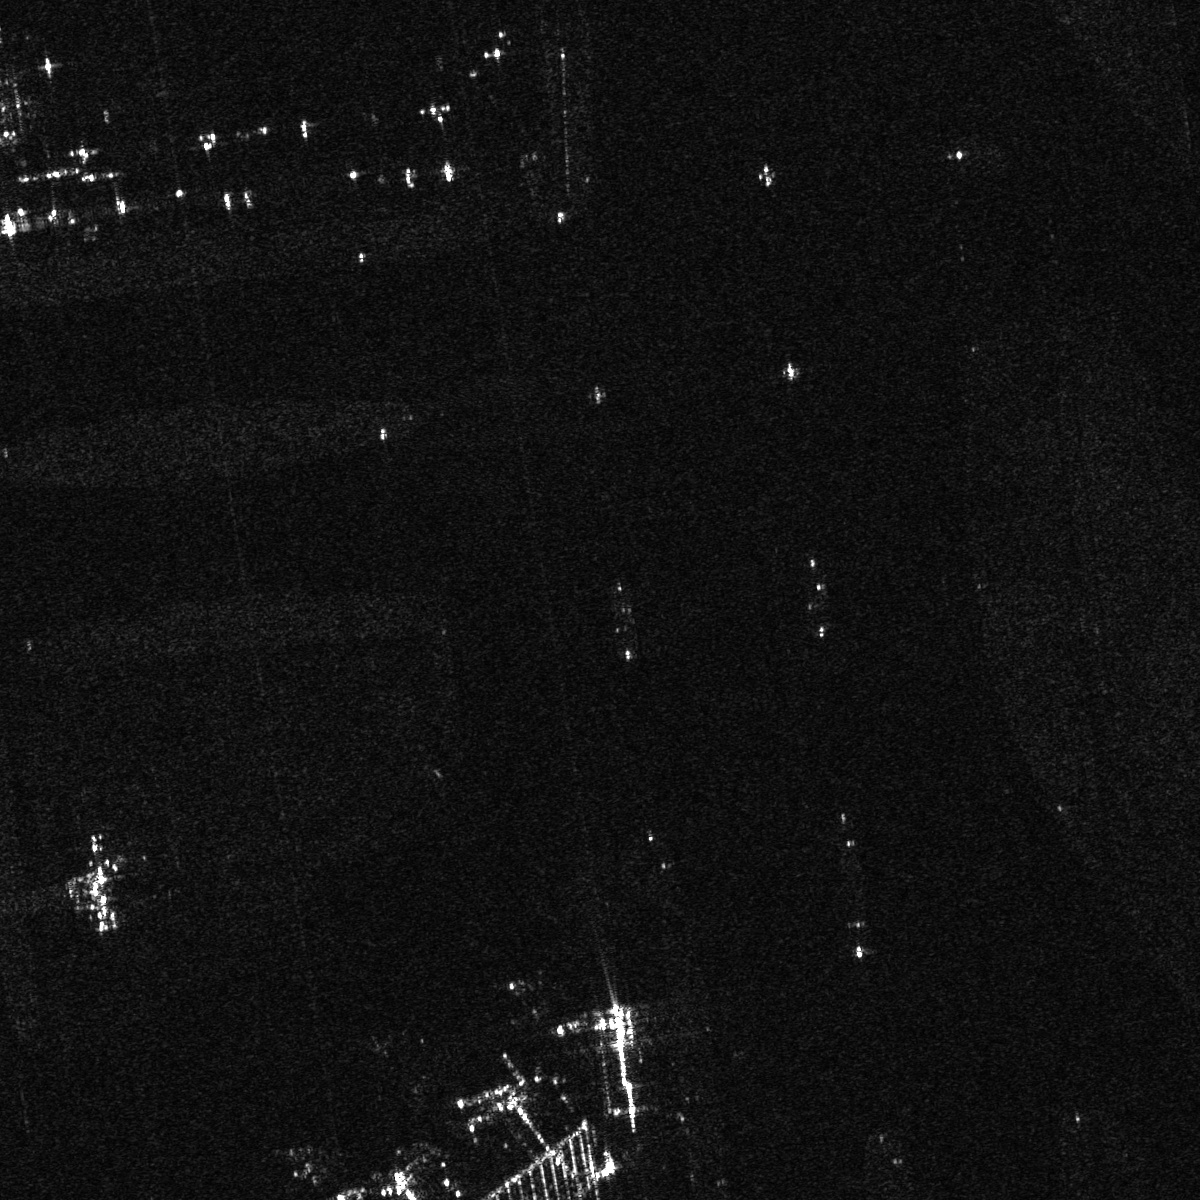A220: (508, 978, 562, 1022)
